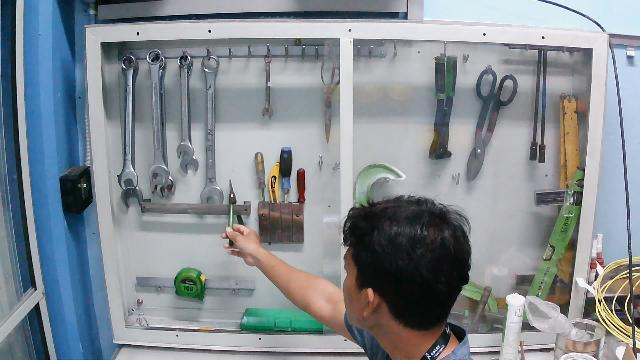tang_cucut_lancip_2: (221, 173, 247, 246)
